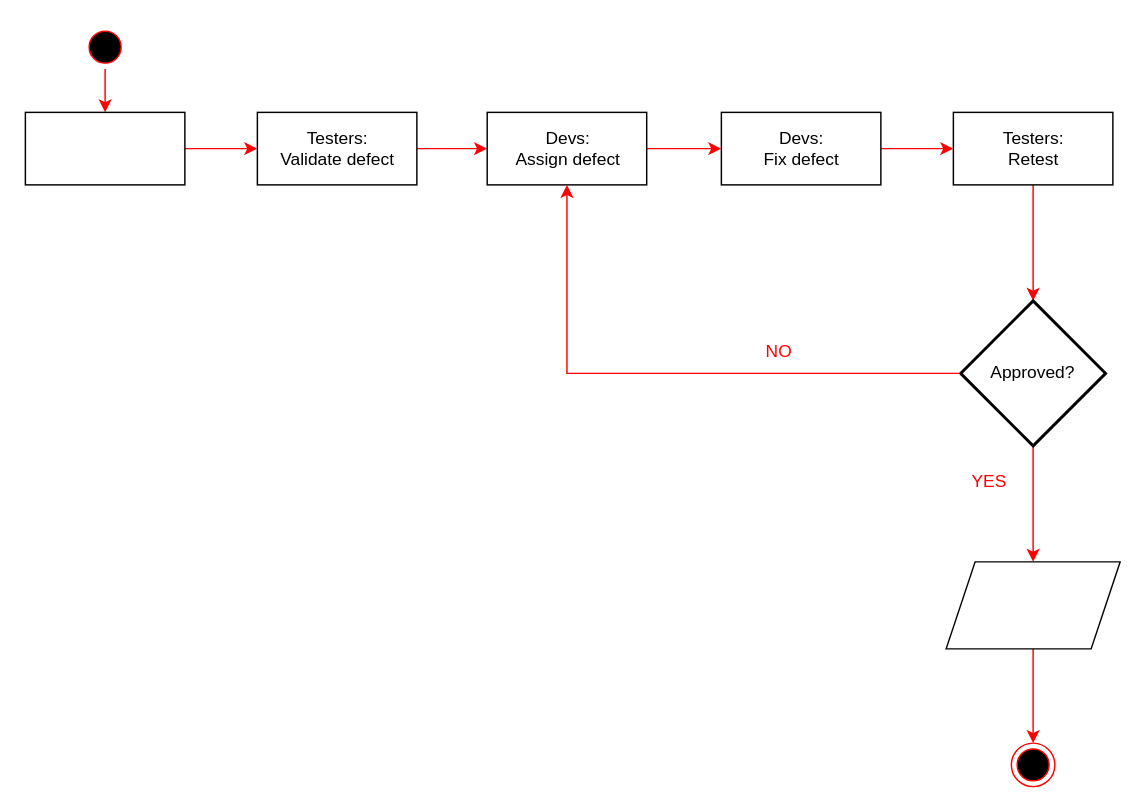
The diagram is 1146 pixels wide and 812 high, and some of its shapes have lost their labels. The box of each missing label's shape, as (x1, y1, x2, y2) in pixels:
Close defect: (945, 560, 1120, 649)
Testers: Report defect: (24, 111, 185, 185)
